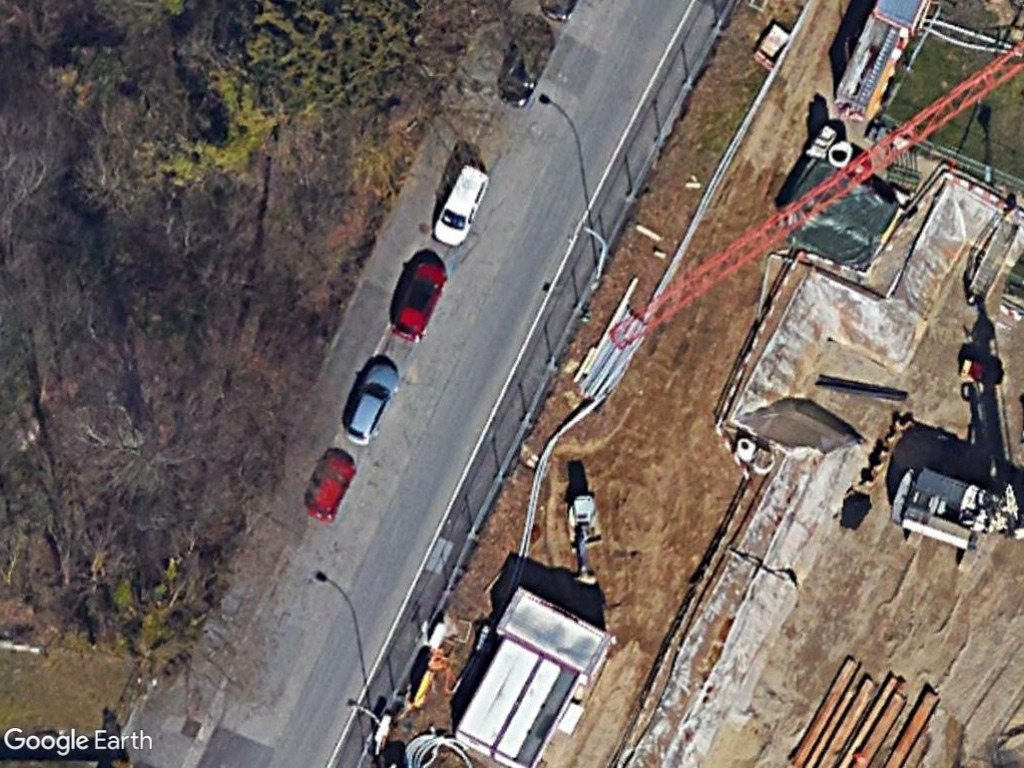car: (339, 358, 400, 448), (430, 160, 492, 247), (302, 455, 356, 525)
